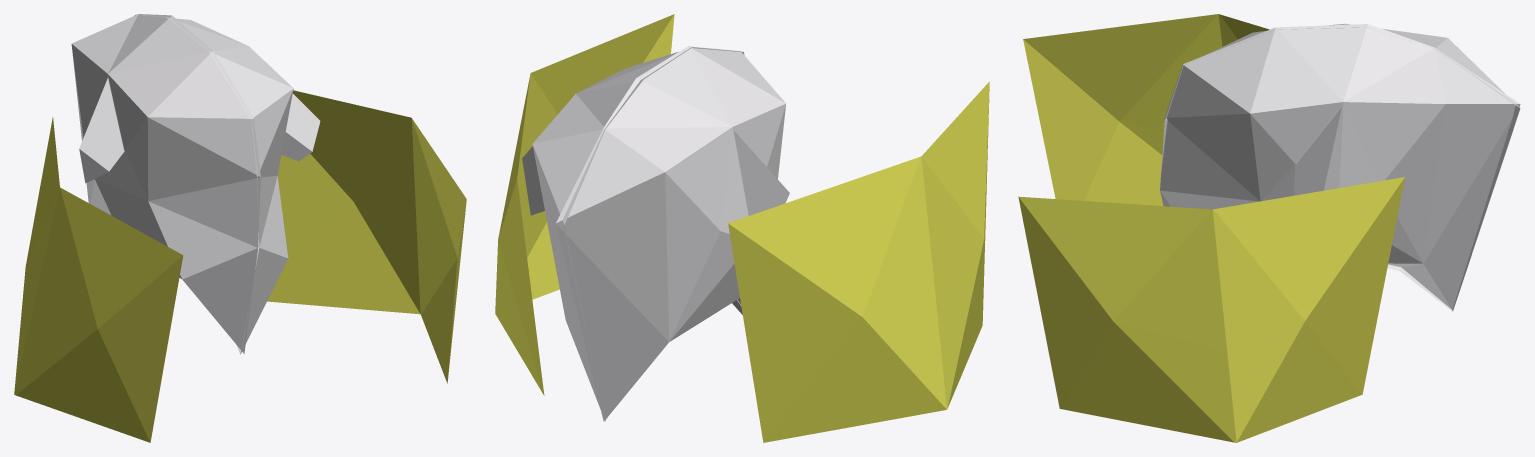
The model's file is protein_6.fbx.
3 views of the same model, side by side, from view 1: azimuth 30°, elevation 25°; view 2: azimuth 150°, elevation 25°; view 3: azimuth 270°, elevation 25° (orthographic). The views are drawn at different scales.
Visible parts, largest first — view 1: wings, main body.001, arm static, arm animate; view 2: wings, main body.001, arm static, arm animate; view 3: wings, main body.001, arm animate.
Boxes of the visible parts, left/top/right/bottom form: wings: left=14, top=90, right=466, bottom=442; main body.001: left=71, top=14, right=293, bottom=354; arm static: left=79, top=77, right=124, bottom=183; arm animate: left=281, top=93, right=320, bottom=161; wings: left=495, top=14, right=989, bottom=442; main body.001: left=532, top=46, right=786, bottom=421; arm static: left=733, top=130, right=789, bottom=215; arm animate: left=522, top=146, right=544, bottom=215; wings: left=1018, top=14, right=1404, bottom=442; main body.001: left=1160, top=23, right=1520, bottom=311; arm animate: left=1294, top=107, right=1341, bottom=195.
Size of the model in its own units: 391 by 282 by 396.
